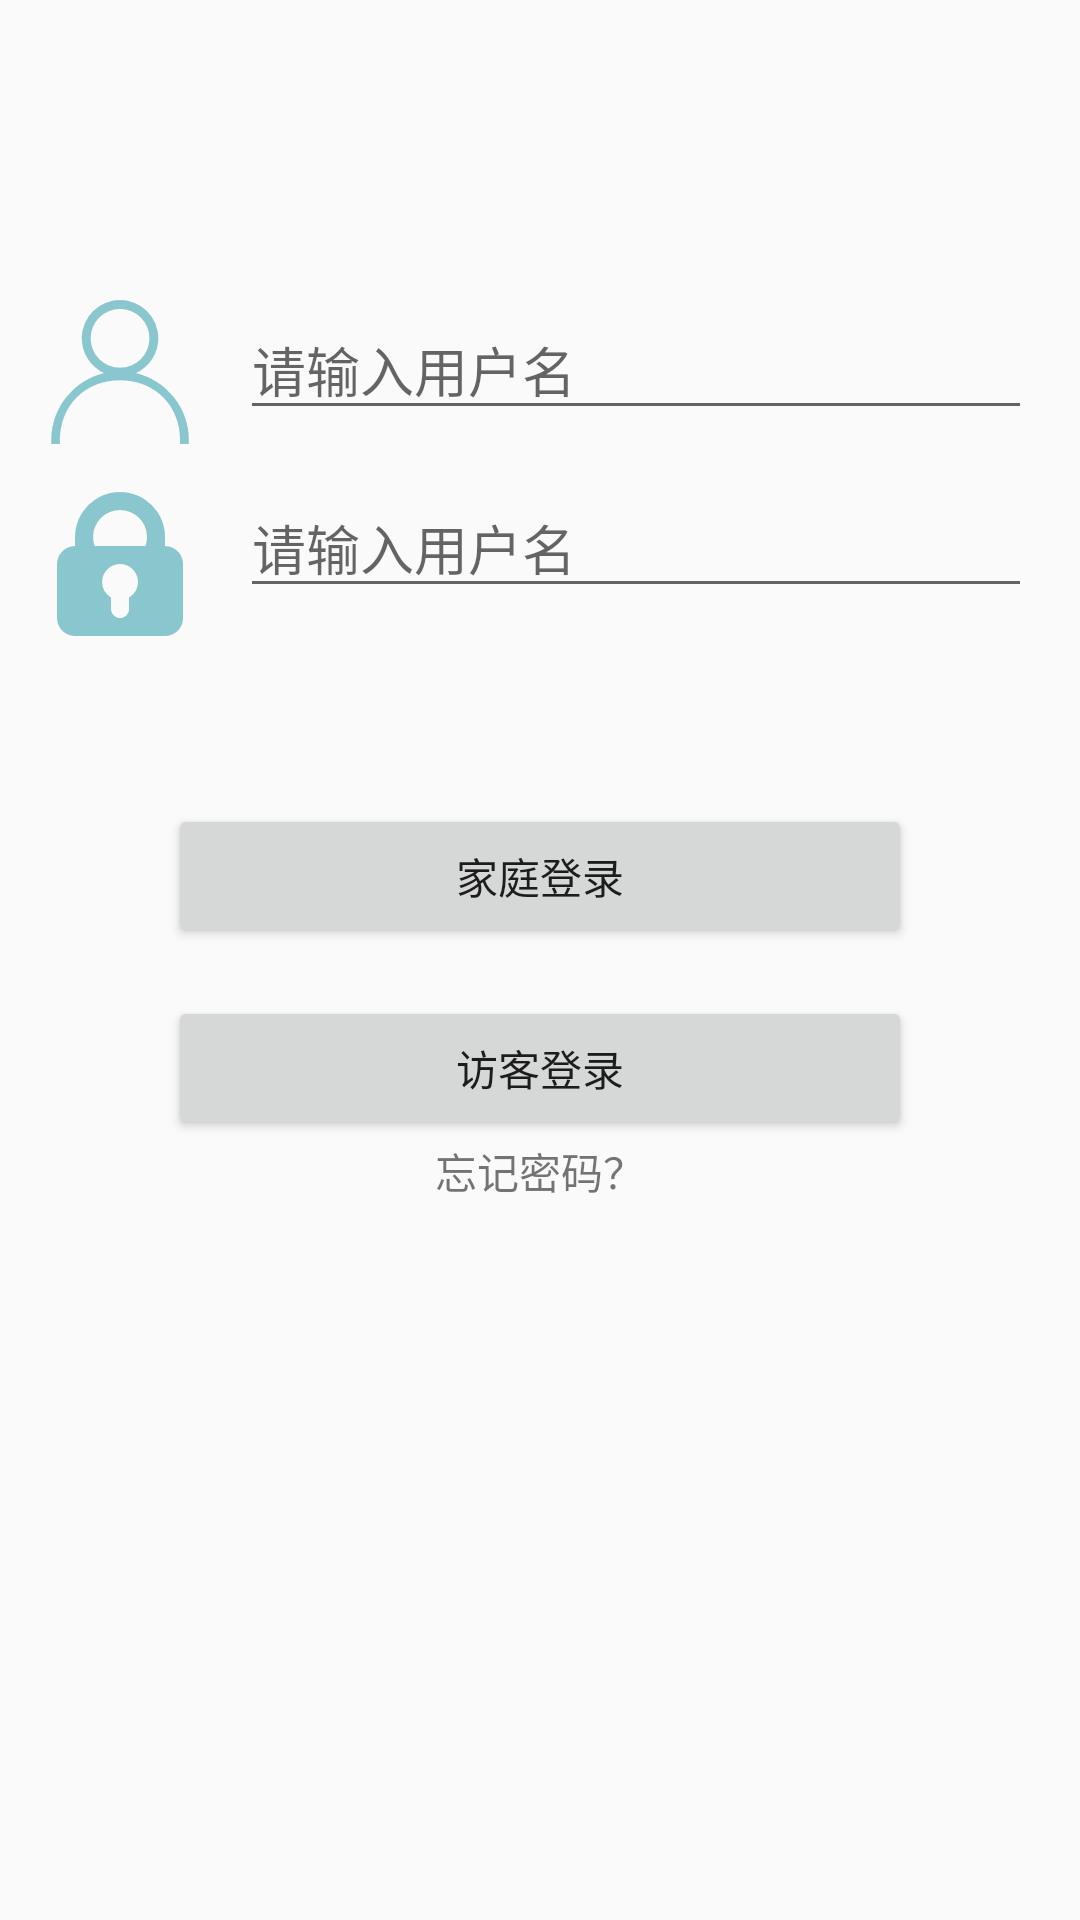

Screen size 1080px x 1920px. Icon name, then its center in pixels as [x,y]:
al account: [120,372]
al pwd: [120,564]
